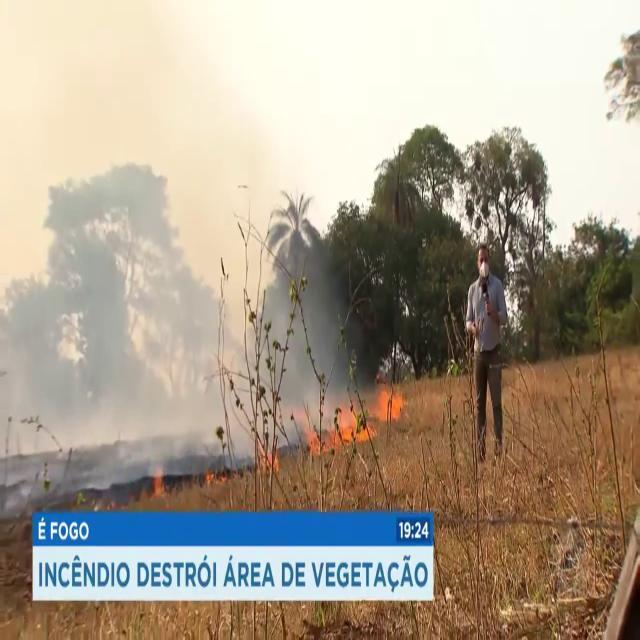Fire: (334, 370, 407, 442)
Smoke: (0, 19, 348, 457)
